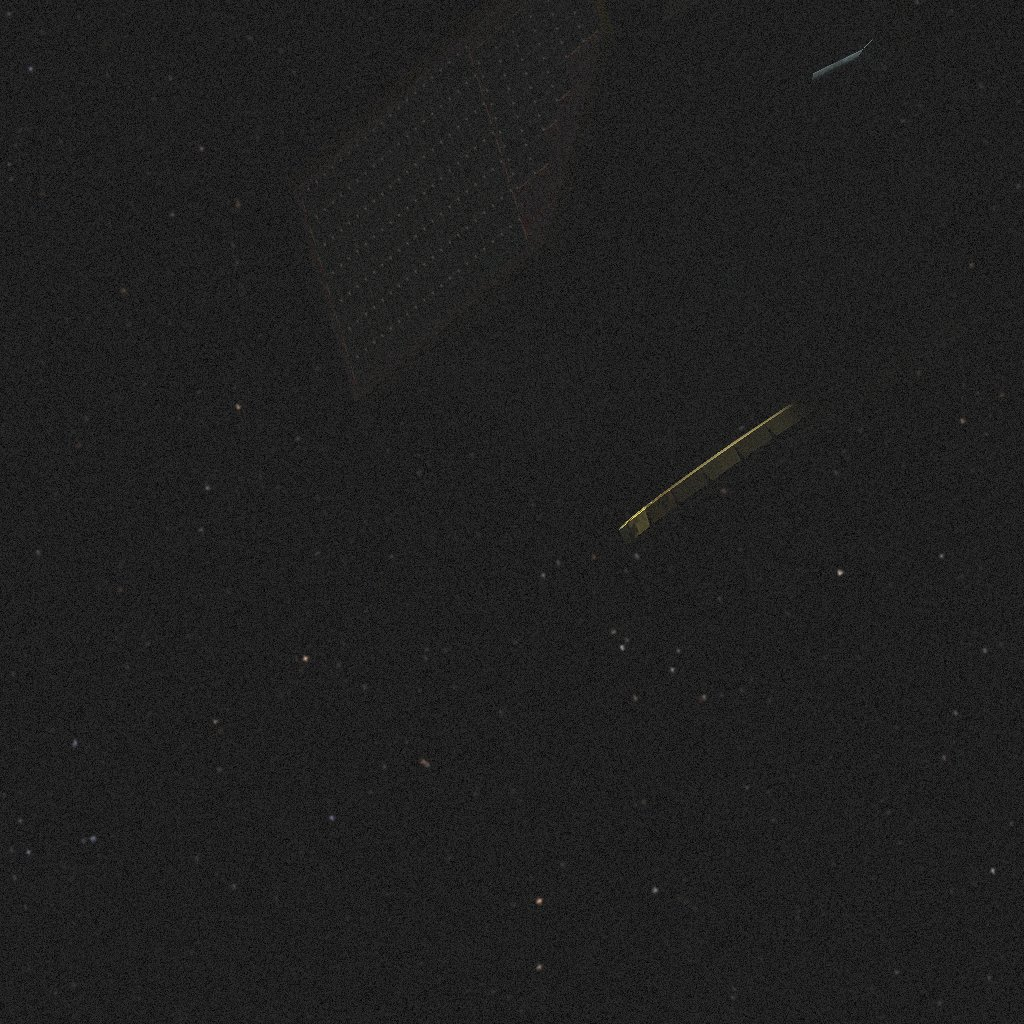cheops: (285, 0, 976, 547)
